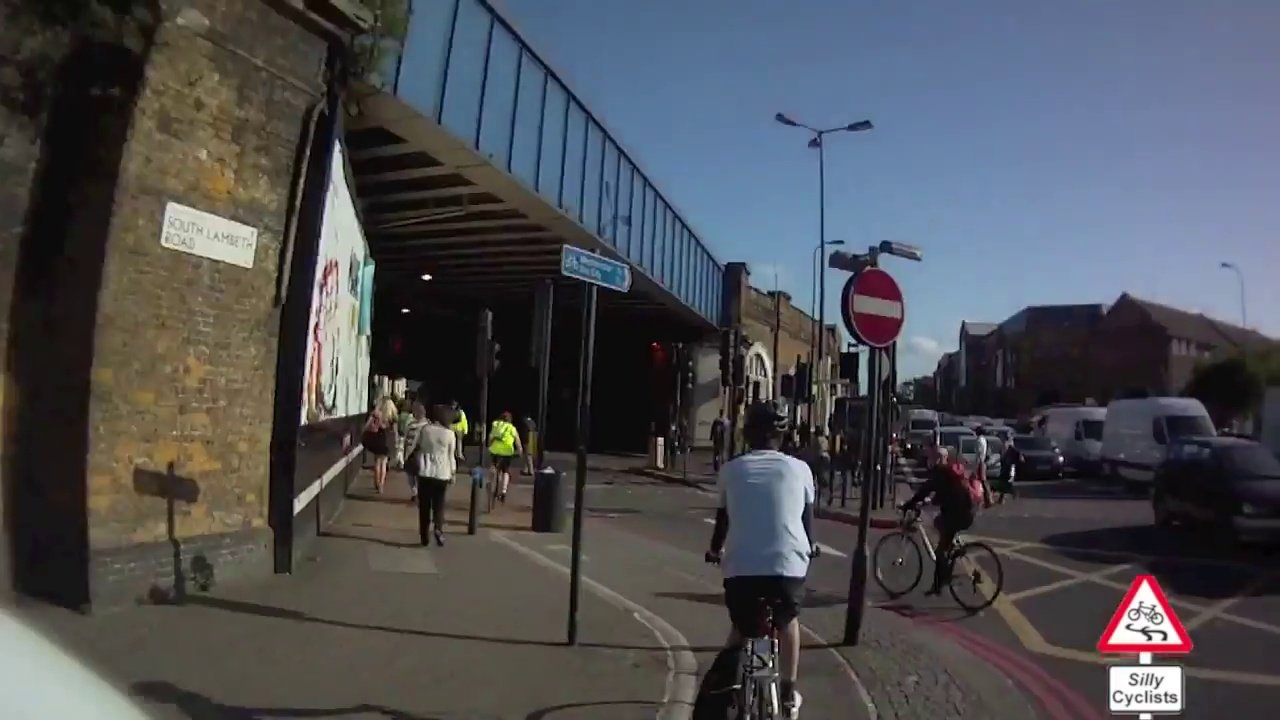cyclist_back: (688, 397, 823, 714)
cyclist_side: (865, 438, 1012, 599)
